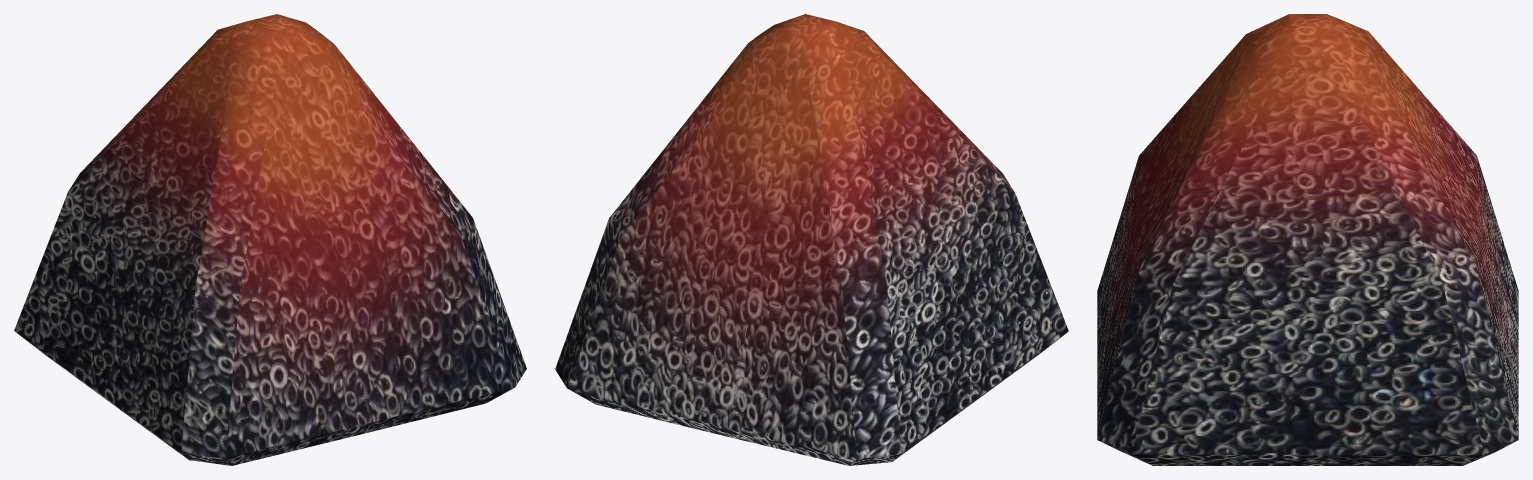
File: TirePilefire.fbx
3 renders of one model, left to right at view 1: azimuth 30°, elevation 25°; view 2: azimuth 150°, elevation 25°; view 3: azimuth 270°, elevation 25°, orthographic. The views are drawn at different scales.
Visible parts, largest first — view 1: pCube206; view 2: pCube206; view 3: pCube206.
Part boxes in pixels (<box>): pCube206: <box>14,14,526,465</box>; pCube206: <box>555,14,1068,465</box>; pCube206: <box>1097,14,1518,465</box>.
Bounding box in the file's own units: 9.86 × 9.86 × 9.86.
